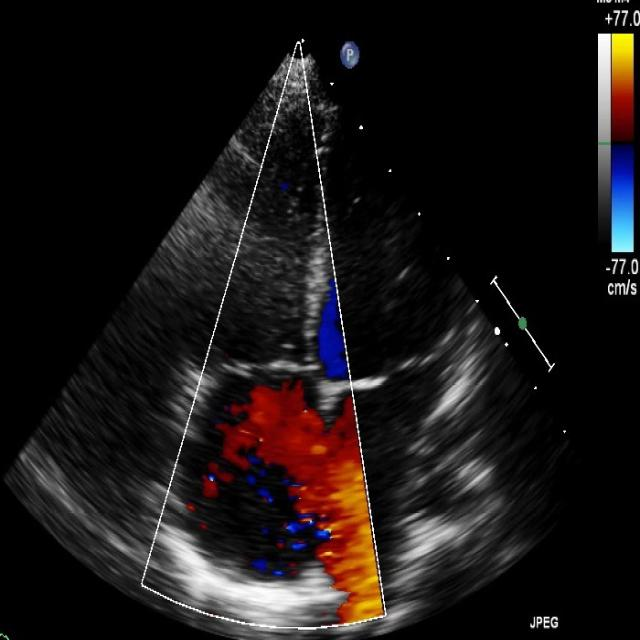ASDType2: (219, 381, 389, 624)
